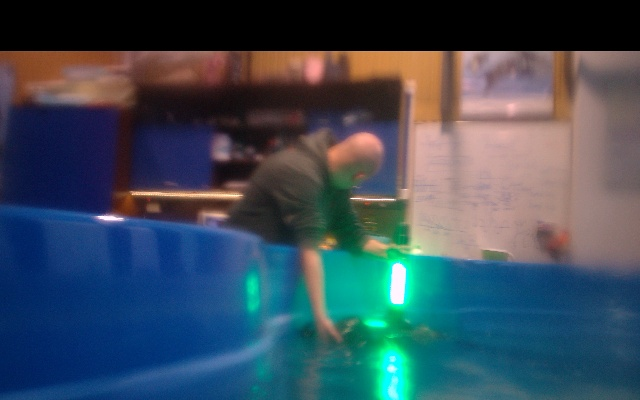green: (389, 254, 405, 316)
